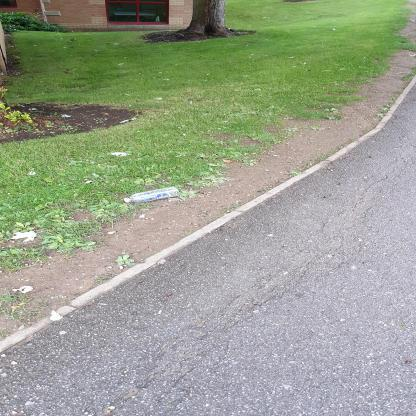plastik: (125, 188, 181, 204)
